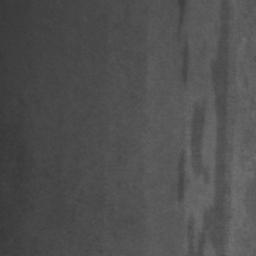Inclusion: (202, 0, 230, 256), (189, 102, 210, 184)
